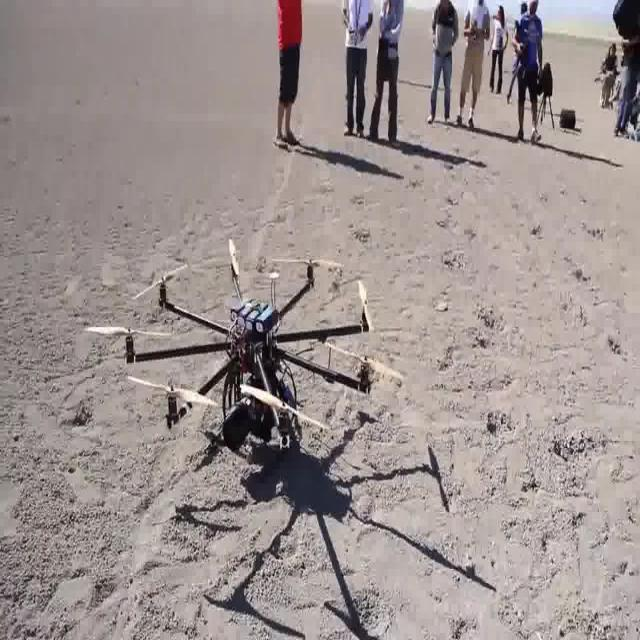drone: (76, 233, 422, 506)
